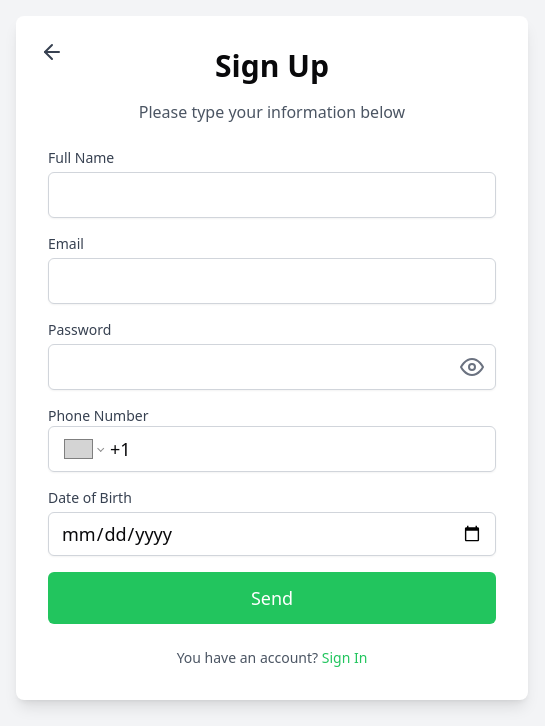
Test: Login Form › should fill and submit the form
This screenshot has width=545, height=726.
# Llenar el formulario
Type "John Doe" into the field with test id "fullName" at (272, 195), box [48, 172, 496, 218]
Type "john@example.com" into the field with test id "email" at (272, 281), box [48, 258, 496, 304]
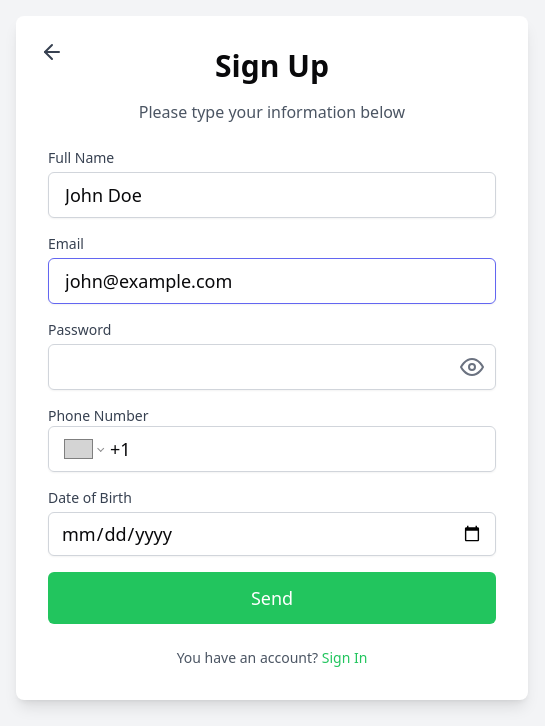
Type "Password123!" into the password field with test id "password" at (272, 367), box [48, 344, 496, 390]
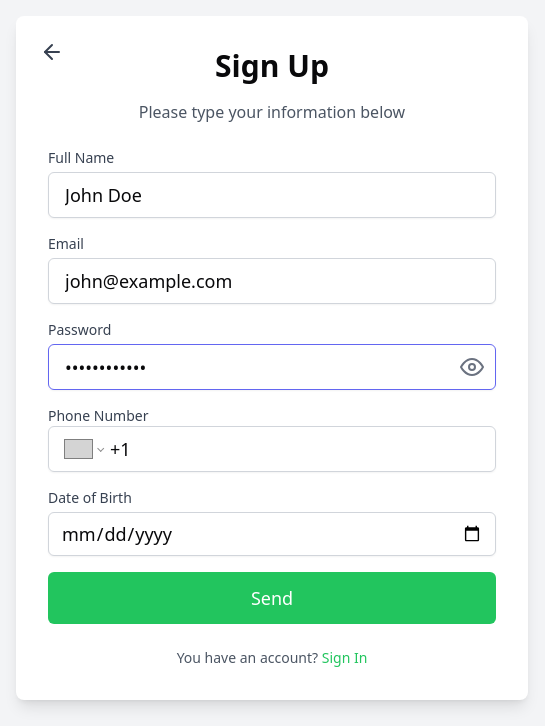
Click the button with test id "toggle-password" at (472, 367), box [460, 344, 484, 390]
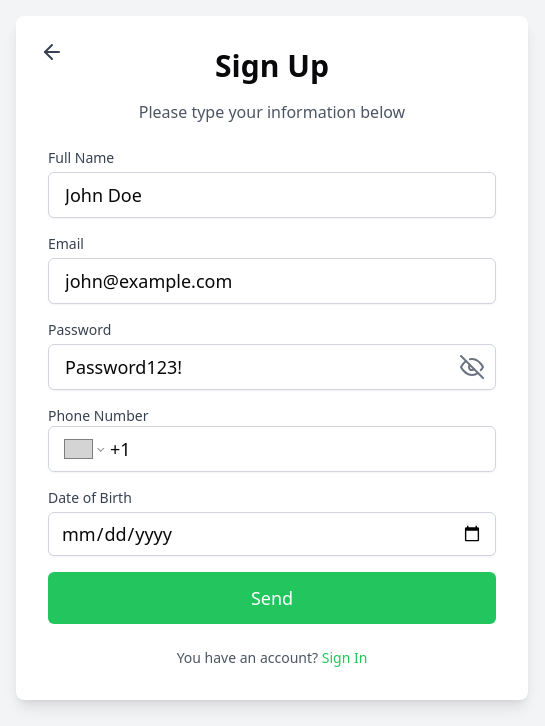
Type "+1234567890" into the field labelled "Phone Number" at (295, 449), box [110, 435, 479, 463]
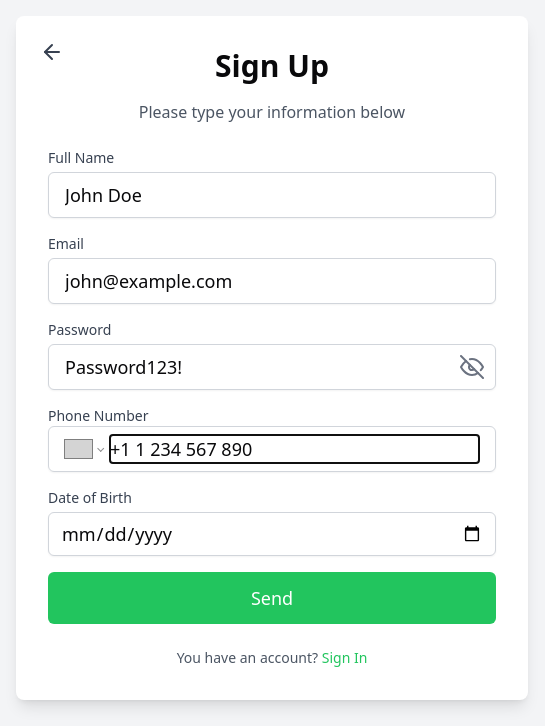
Type "1999-01-01" into the date field with test id "dob" at (272, 534), box [48, 512, 496, 556]
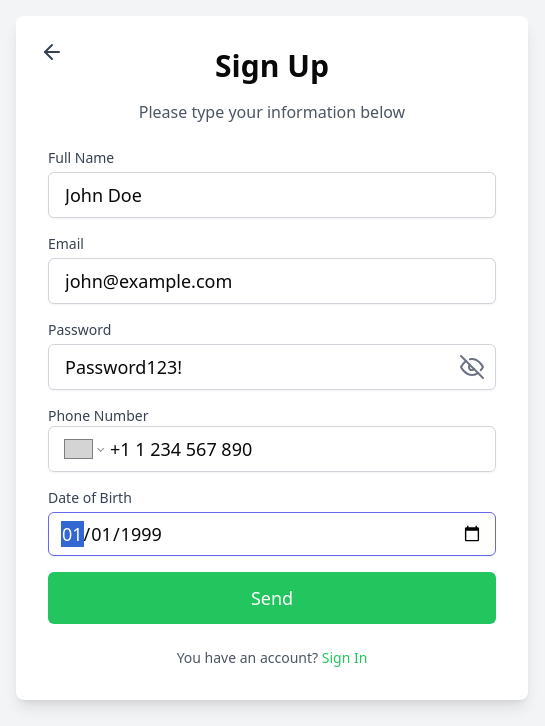
# Enviar formulario
Click the button with test id "submit-button" at (272, 598), box [48, 572, 496, 624]
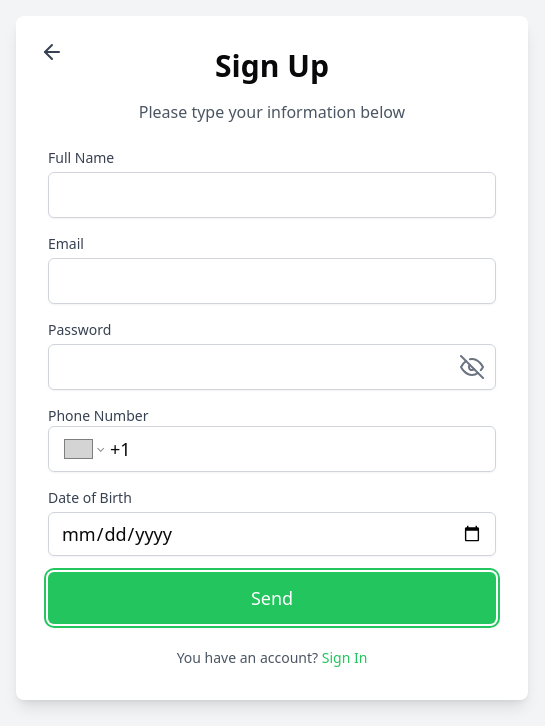
Expected: the field labelled "Phone Number" holds "+1", [110, 435, 479, 463]
